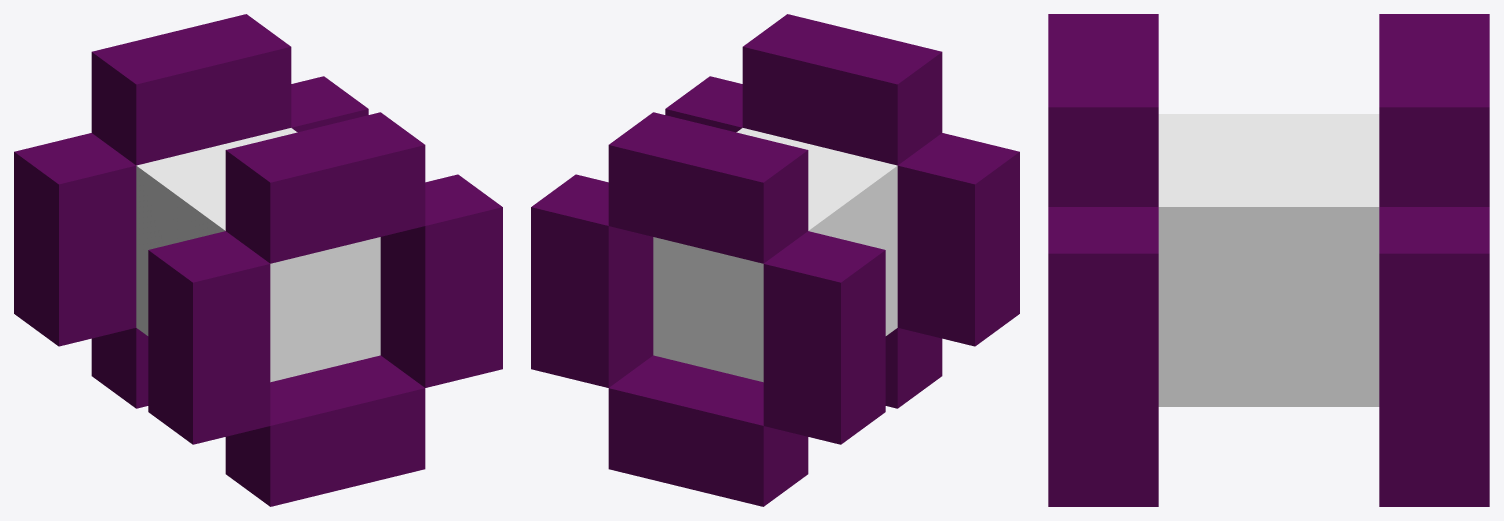
Rendered from cube-reset.glb.
The picture shows the model from 3 angles, left to right: view 1: azimuth 30°, elevation 25°; view 2: azimuth 150°, elevation 25°; view 3: azimuth 270°, elevation 25°; orthographic projection. The views are drawn at different scales.
Parts seen in each view (by area): view 1: cube-reset; view 2: cube-reset; view 3: cube-reset.
Part boxes in pixels (box(x1,y1,x2,y2)): cube-reset: box(14, 14, 502, 506); cube-reset: box(531, 14, 1019, 506); cube-reset: box(1048, 14, 1489, 506).
Size of the model in its own units: 1 by 1 by 1.
